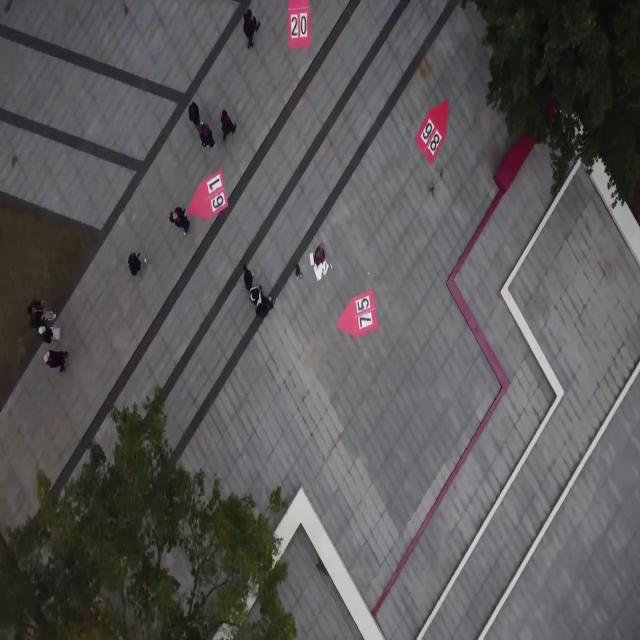-sign-: (335, 287, 394, 350), (187, 168, 231, 227), (414, 98, 450, 165)
